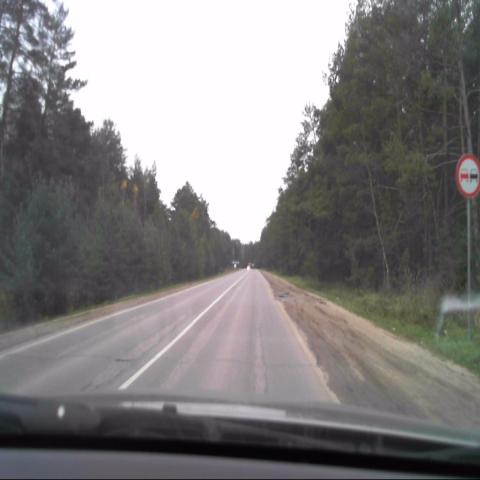3_20: (454, 152, 480, 198)
